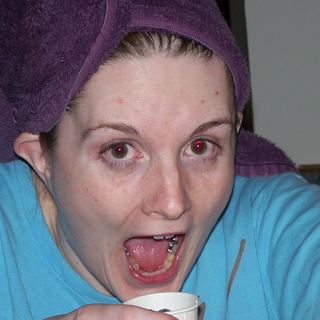eye: (97, 139, 144, 165), (182, 134, 225, 160)
